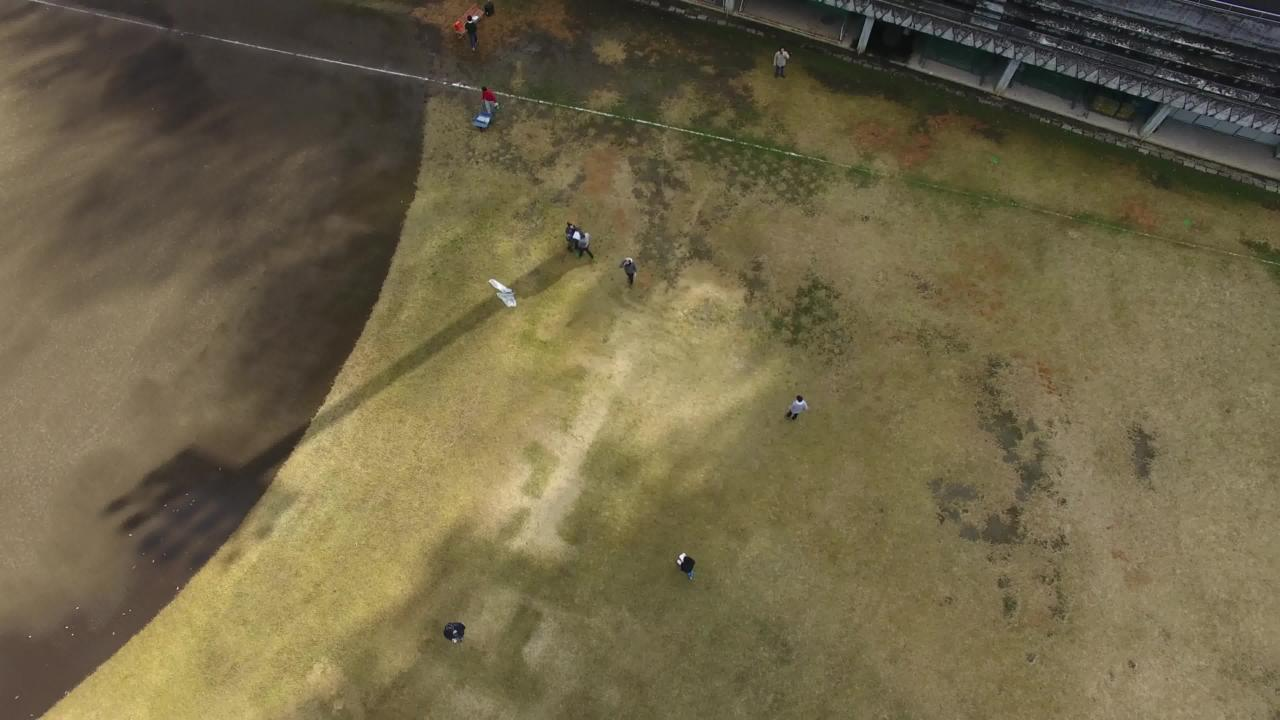person: (610, 252, 647, 296), (464, 81, 501, 125), (433, 611, 470, 655), (764, 39, 801, 83), (777, 387, 814, 431), (668, 542, 705, 586), (455, 13, 484, 54), (553, 220, 576, 258), (573, 228, 594, 262)
